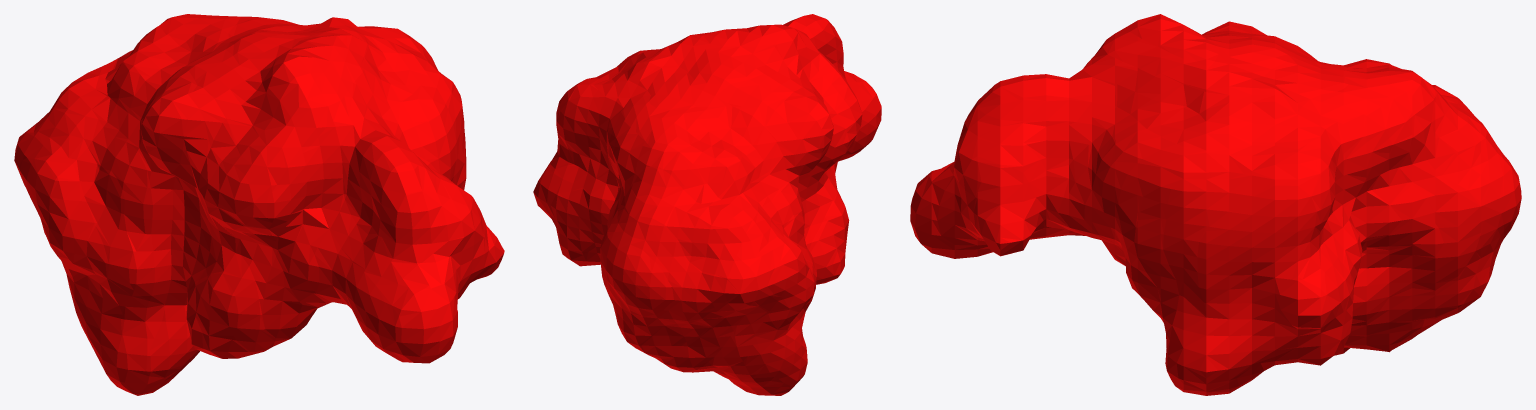
File: zwf_coarse.dae
3 renders of one model, left to right at view 1: azimuth 30°, elevation 25°; view 2: azimuth 150°, elevation 25°; view 3: azimuth 270°, elevation 25°, orthographic. The views are drawn at different scales.
Visible parts, largest first — view 1: zwf; view 2: zwf; view 3: zwf.
Part boxes in pixels (x1,y1,x2,y2): zwf: [14, 14, 504, 395]; zwf: [533, 14, 881, 395]; zwf: [910, 14, 1521, 395].
Bounding box in the file's own units: 62 × 61.7 × 92.09.
